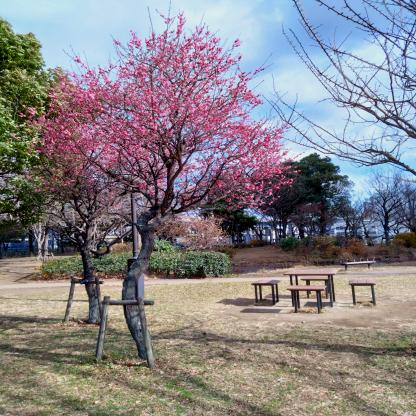Ume: (16, 1, 308, 256)
